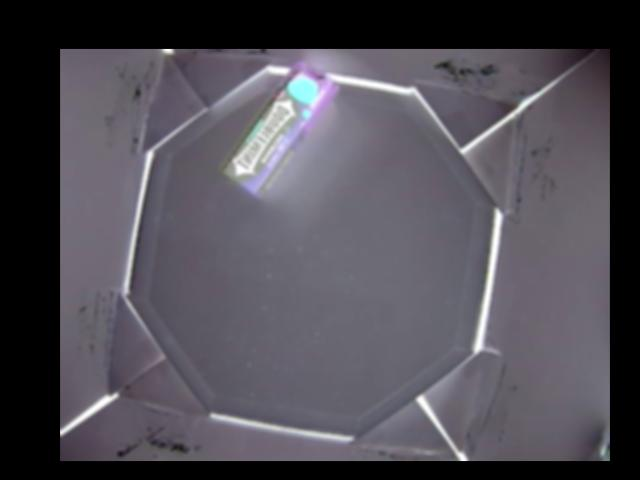Bottle: (219, 60, 335, 197)
